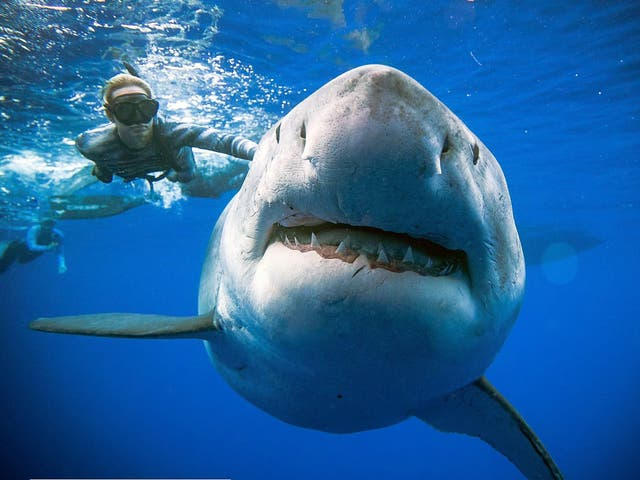shark: (38, 63, 552, 444)
